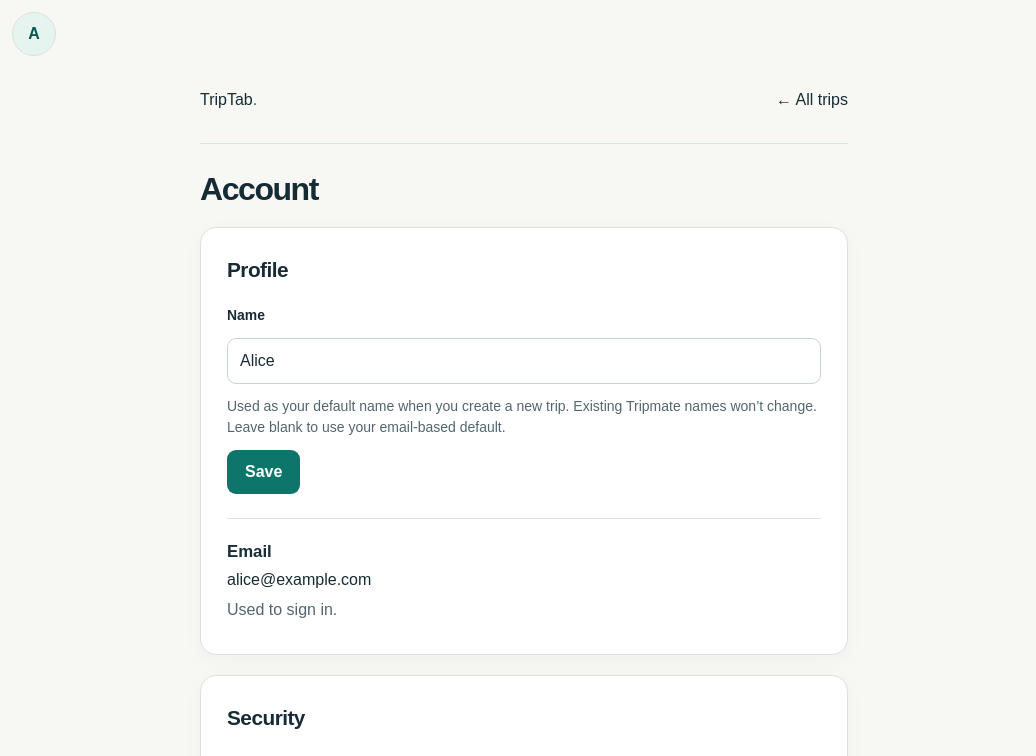
Test: preserves invalid name and associates server validation error
Replace the text in the field labelled "Name" with "Name": (524, 361) [227,338,821,384]
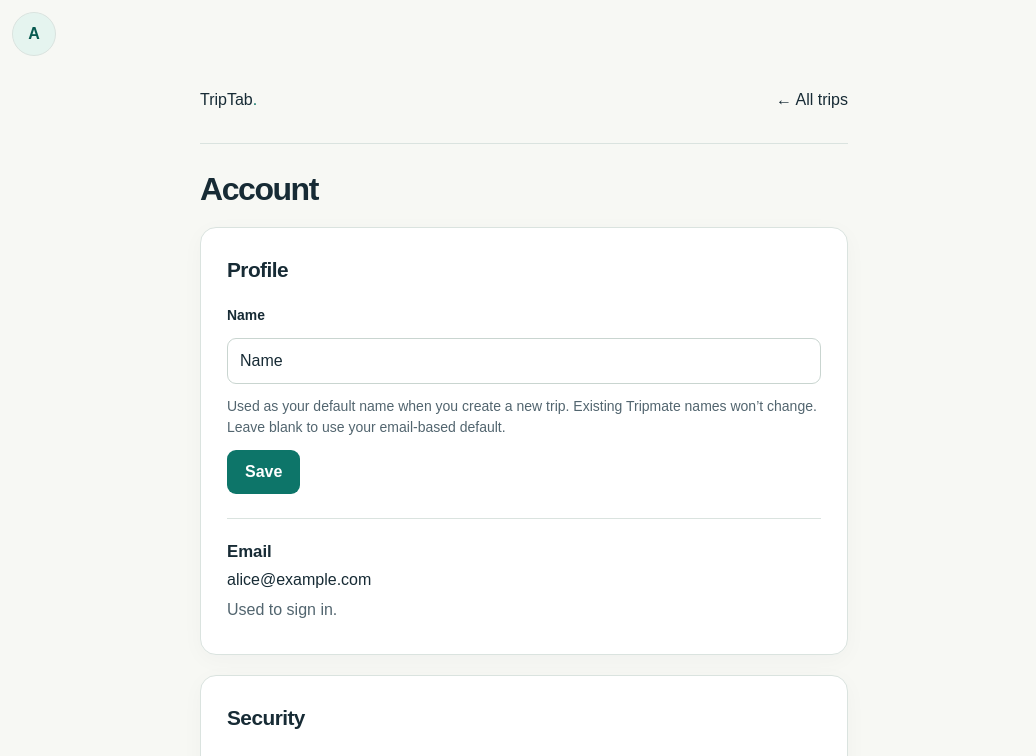
Submit the form labelled "Name", box [227,305,821,494]
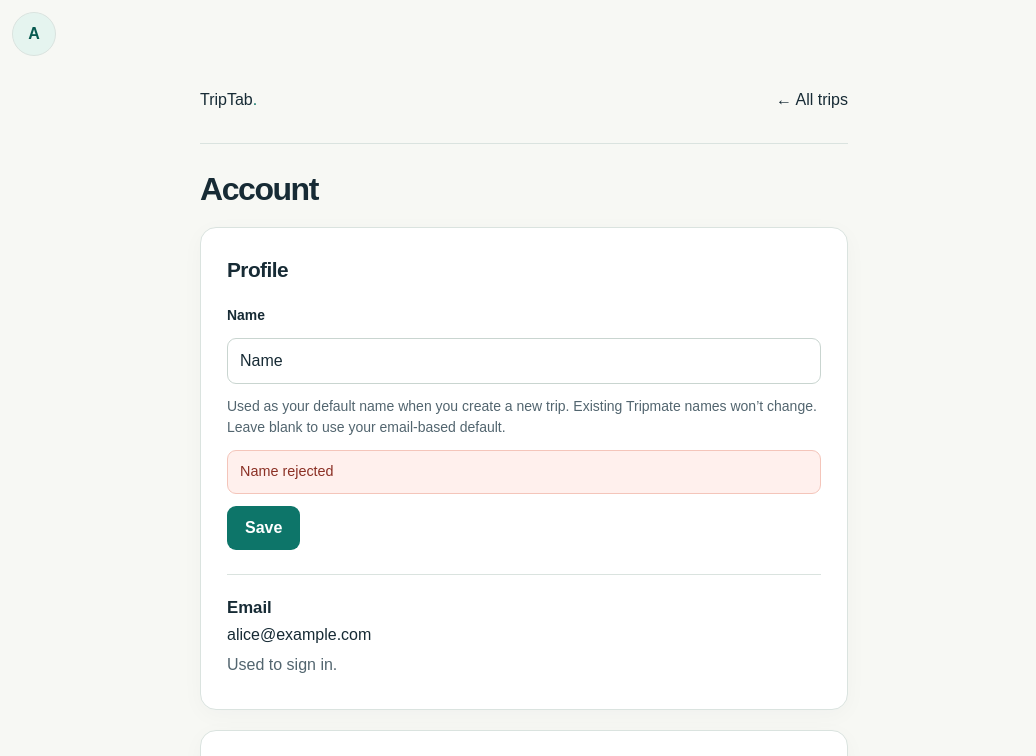
expect the message reads "Name rejected": met, box [240,463,334,479]
